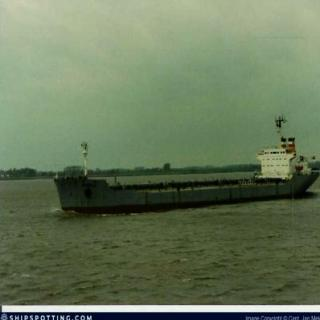Bulk Carrier: (42, 140, 320, 214)
